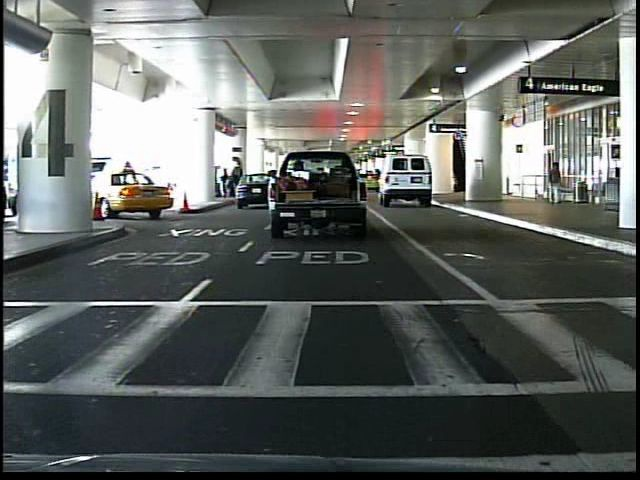person: (544, 158, 565, 209)
